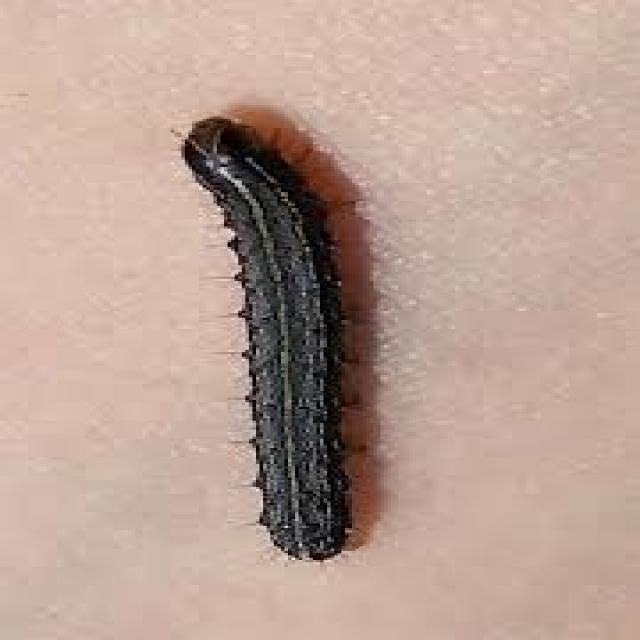armyworm: (173, 110, 401, 567)
